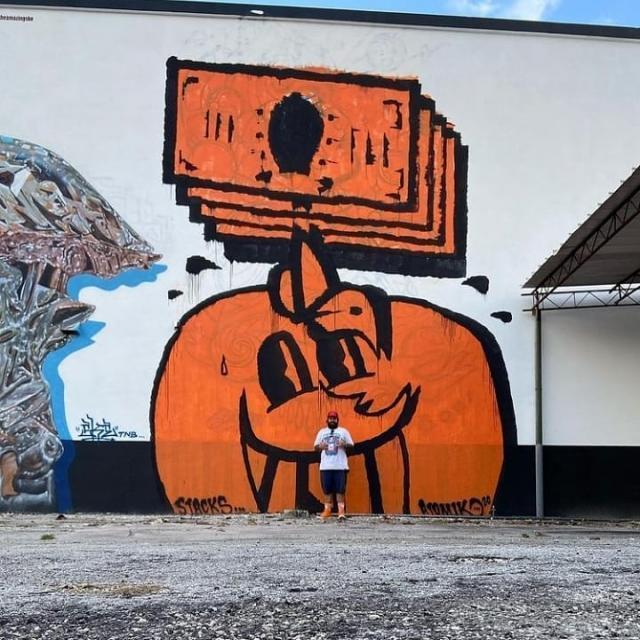nonspitting: (76, 414, 138, 442), (417, 494, 490, 516), (176, 494, 246, 514)
spitting: (146, 54, 521, 524), (0, 132, 162, 516)
